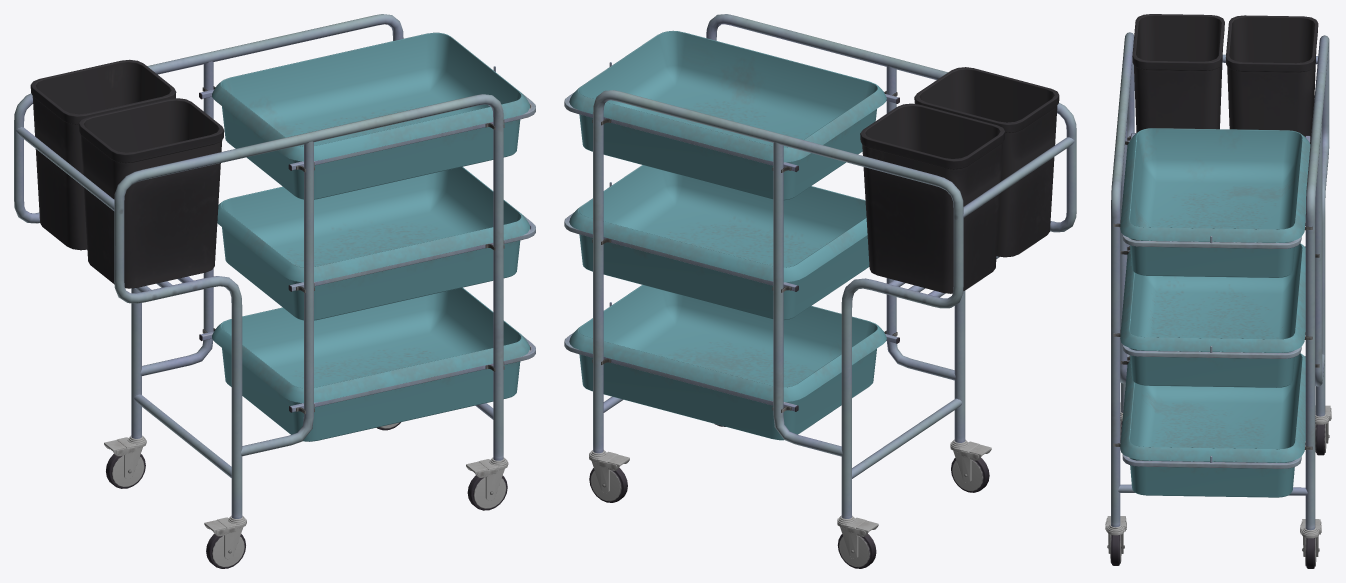
The model's file is medical_cart.glb.
The picture shows the model from 3 angles, left to right: view 1: azimuth 30°, elevation 25°; view 2: azimuth 150°, elevation 25°; view 3: azimuth 270°, elevation 25°; orthographic projection. The views are drawn at different scales.
Visible parts, largest first — view 1: Bacs_low, Poubelles_low, Armature_low_lambert1_0, EmplacementsBacs_low, Liens_low, Roues_low, AttachesRoues_low, Pneus_low; view 2: Bacs_low, Poubelles_low, Armature_low_lambert1_0, EmplacementsBacs_low, Liens_low, Roues_low, AttachesRoues_low, Pneus_low; view 3: Bacs_low, Poubelles_low, Armature_low_lambert1_0, EmplacementsBacs_low, Pneus_low, BasesRoues_low, Roues_low, AttachesEmplacements_low, Liens_low, AttachesRoues_low.
Boxes of the visible parts, <box> form: Bacs_low: <box>212,32,529,441</box>; Poubelles_low: <box>30,59,224,288</box>; Armature_low_lambert1_0: <box>14,14,503,518</box>; EmplacementsBacs_low: <box>200,66,535,412</box>; Liens_low: <box>16,127,493,477</box>; Roues_low: <box>111,422,506,567</box>; AttachesRoues_low: <box>124,447,504,559</box>; Pneus_low: <box>106,422,507,568</box>; Bacs_low: <box>569,30,886,440</box>; Poubelles_low: <box>860,67,1059,293</box>; Armature_low_lambert1_0: <box>593,14,1076,518</box>; EmplacementsBacs_low: <box>564,62,898,411</box>; Liens_low: <box>603,137,1074,478</box>; Roues_low: <box>590,460,983,567</box>; AttachesRoues_low: <box>591,451,971,558</box>; Pneus_low: <box>589,424,989,568</box>; Bacs_low: <box>1120,128,1310,497</box>; Poubelles_low: <box>1132,14,1318,143</box>; Armature_low_lambert1_0: <box>1111,32,1329,530</box>; EmplacementsBacs_low: <box>1122,133,1310,468</box>; Pneus_low: <box>1111,421,1324,568</box>; BasesRoues_low: <box>1106,410,1329,538</box>; Roues_low: <box>1110,421,1326,566</box>; AttachesEmplacements_low: <box>1113,135,1319,449</box>; Liens_low: <box>1118,54,1318,495</box>; AttachesRoues_low: <box>1108,421,1328,556</box>.
Size of the model in its own units: 92.44 by 88.77 by 46.46.
Materials: 1 (1 with a texture image).
